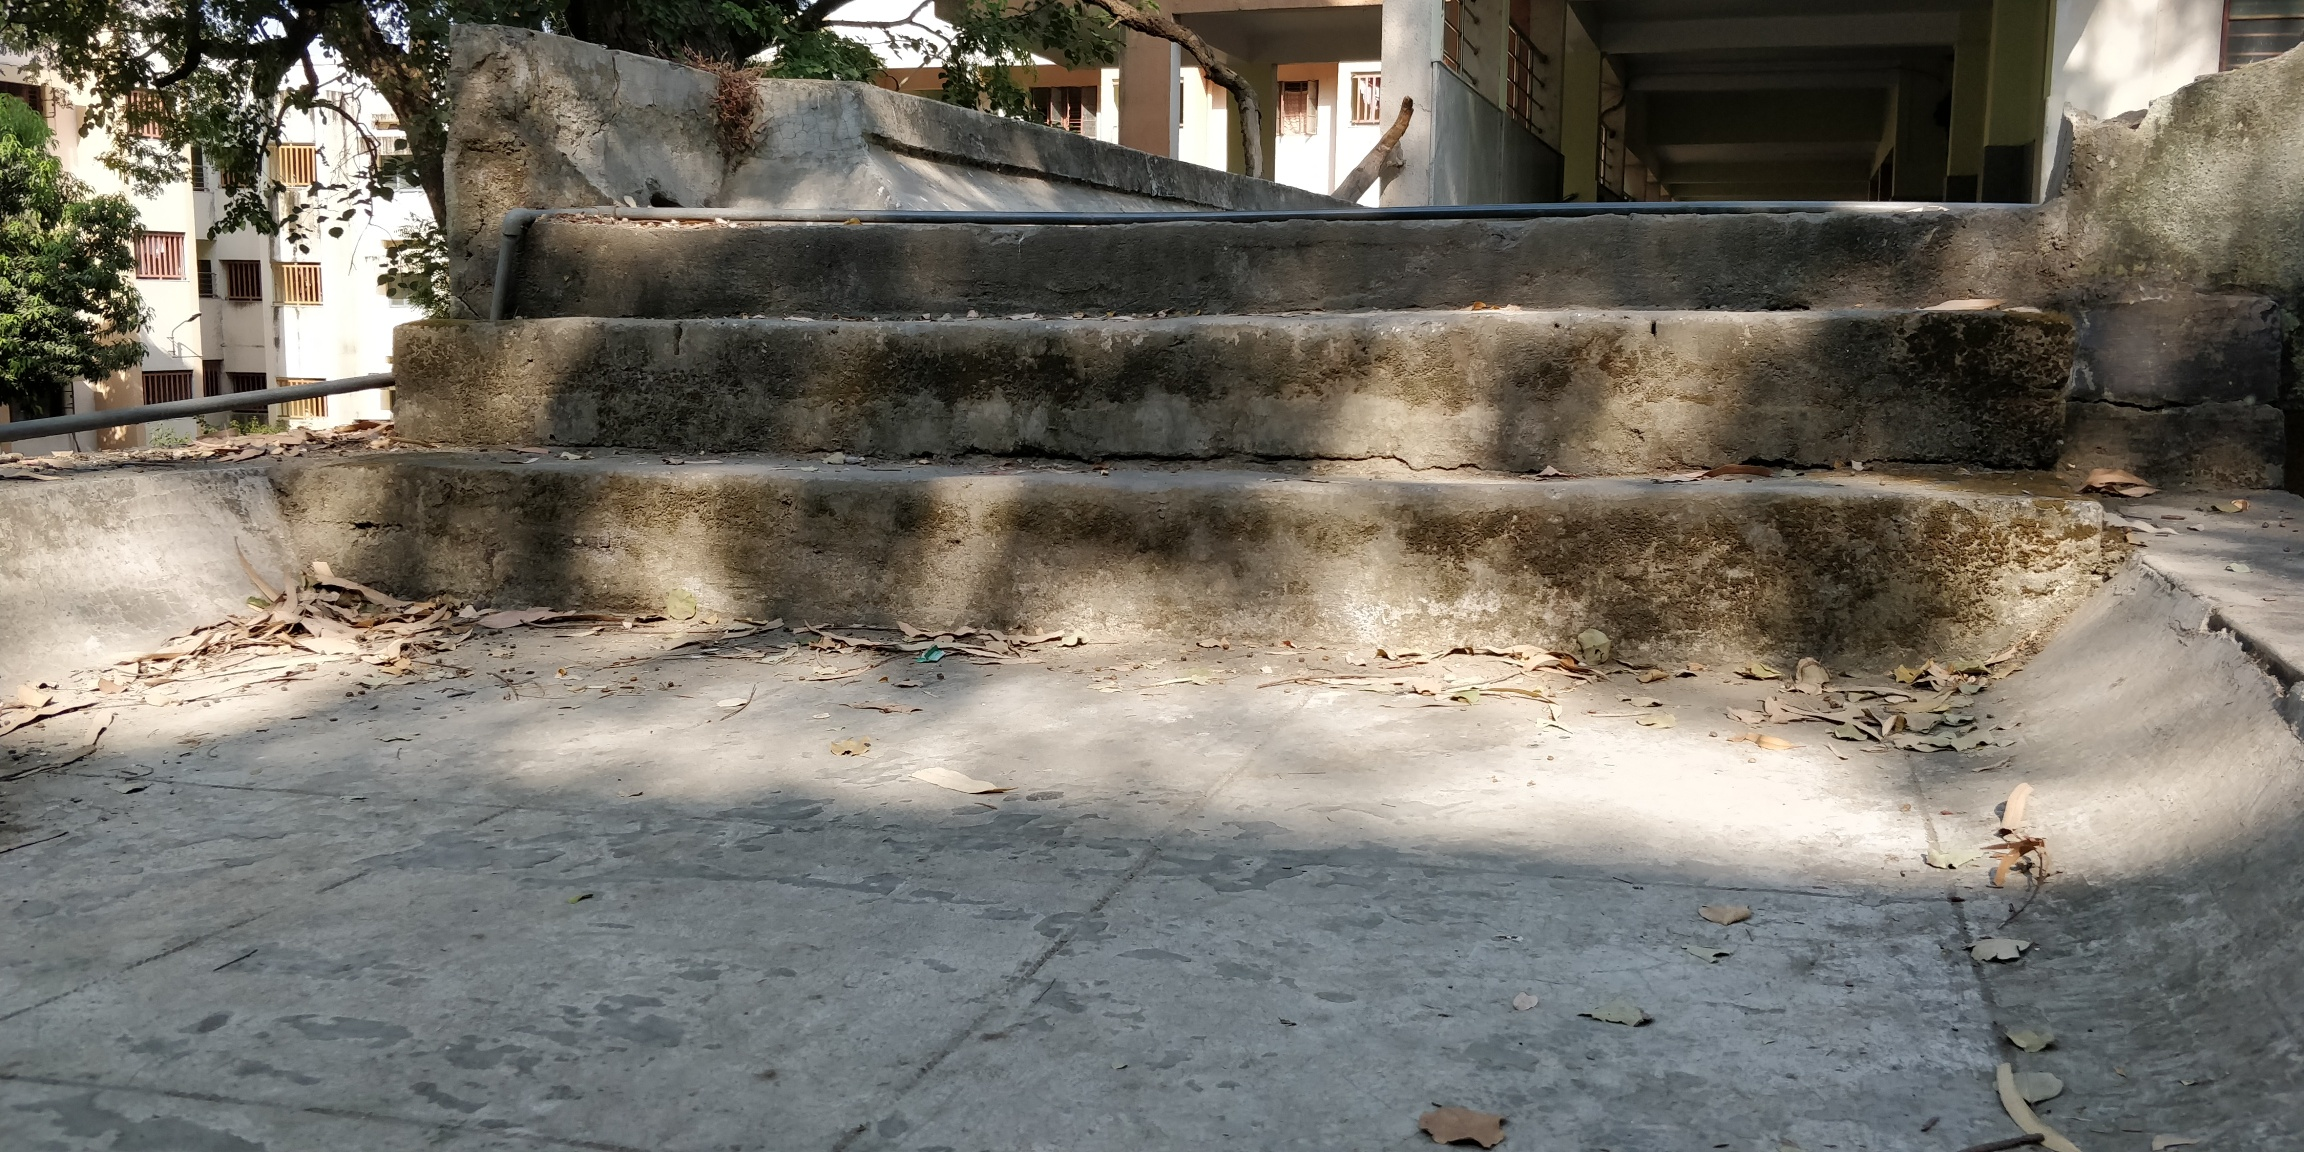stairs_up: (320, 206, 2089, 676)
